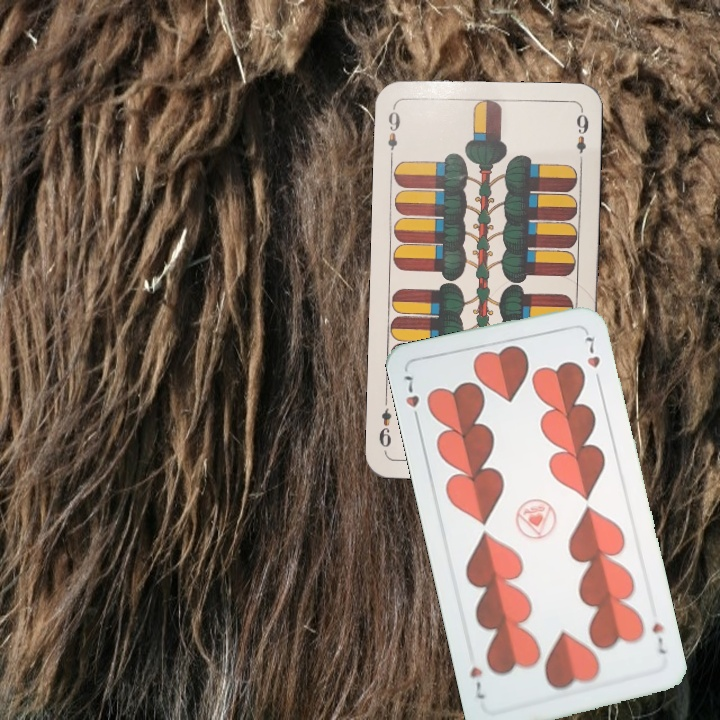E9: (383, 103, 403, 162)
H7: (400, 371, 423, 427), (648, 619, 669, 657)
